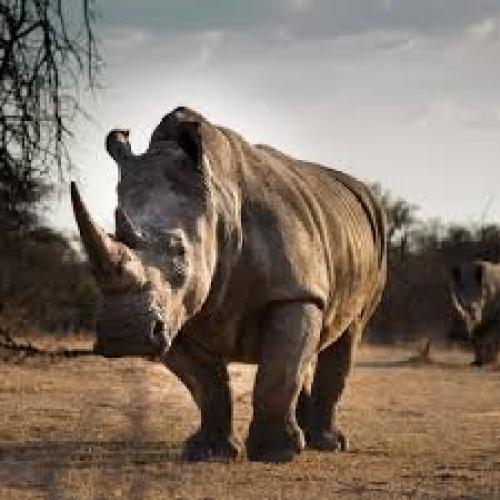rhino-endangered: (67, 105, 390, 459)
